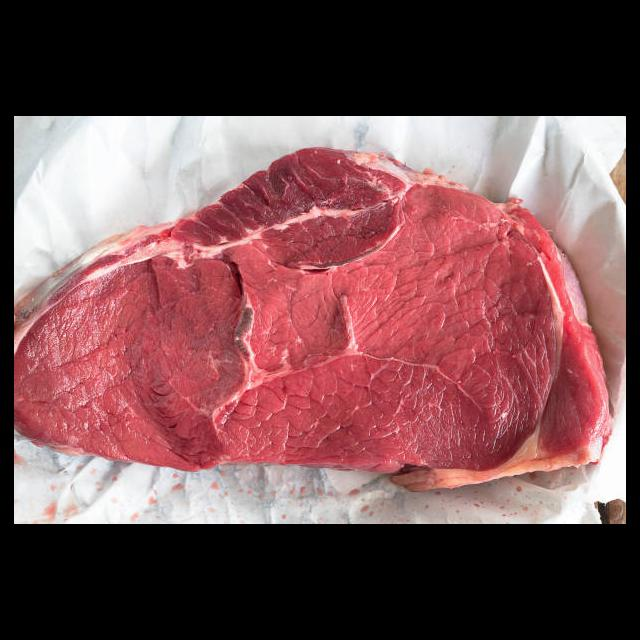beef: (15, 145, 609, 491)
